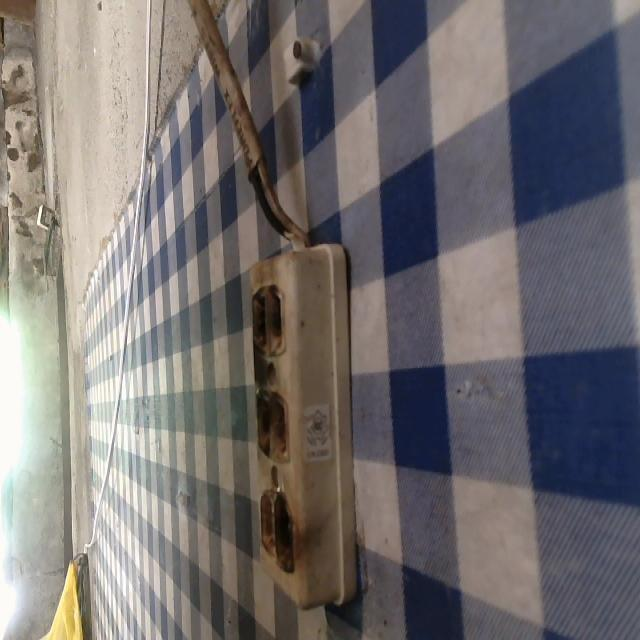-: (258, 484, 296, 571), (252, 386, 290, 466), (251, 279, 289, 357)
